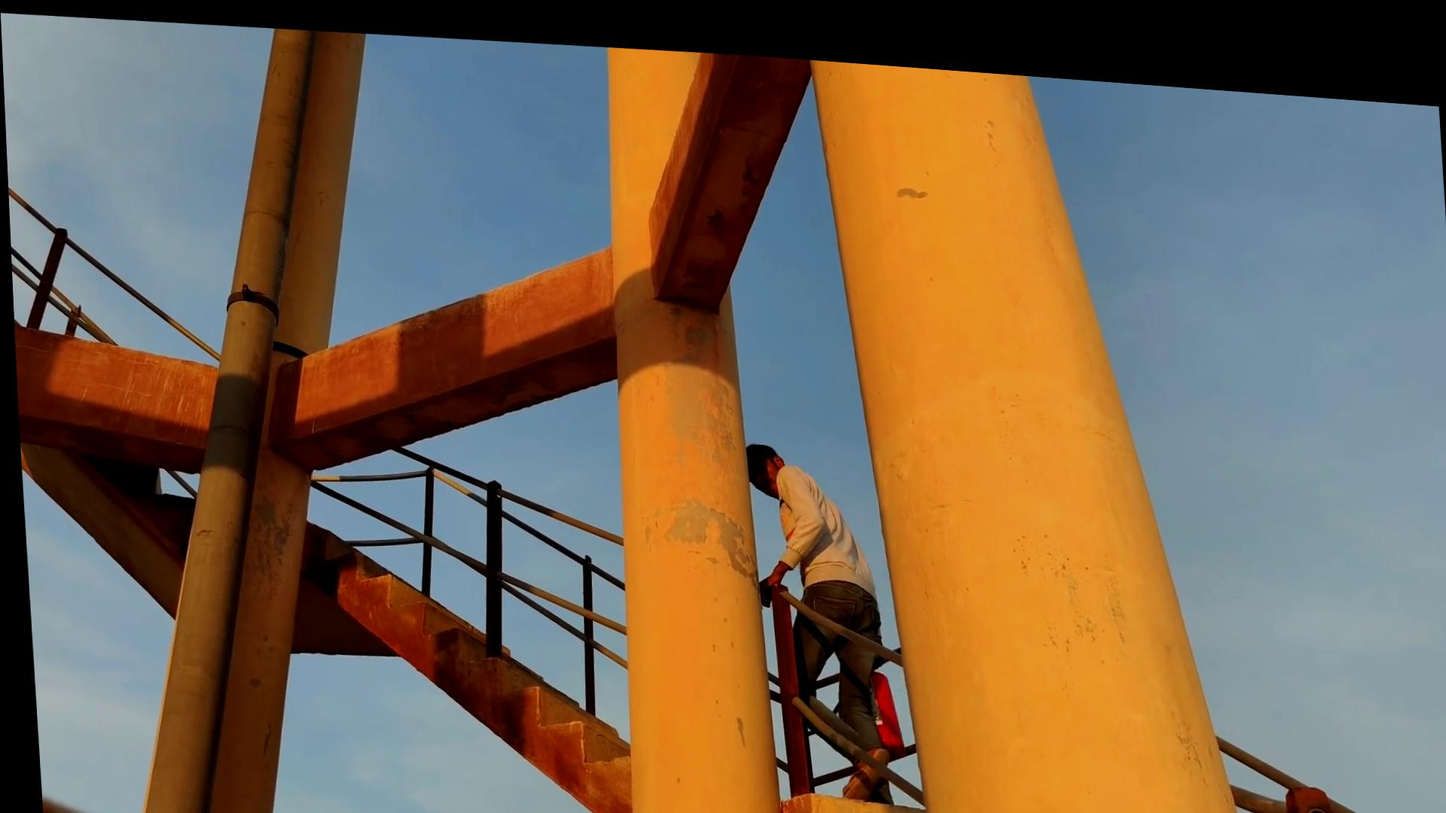FireExtinguisher: (849, 637, 906, 748)
